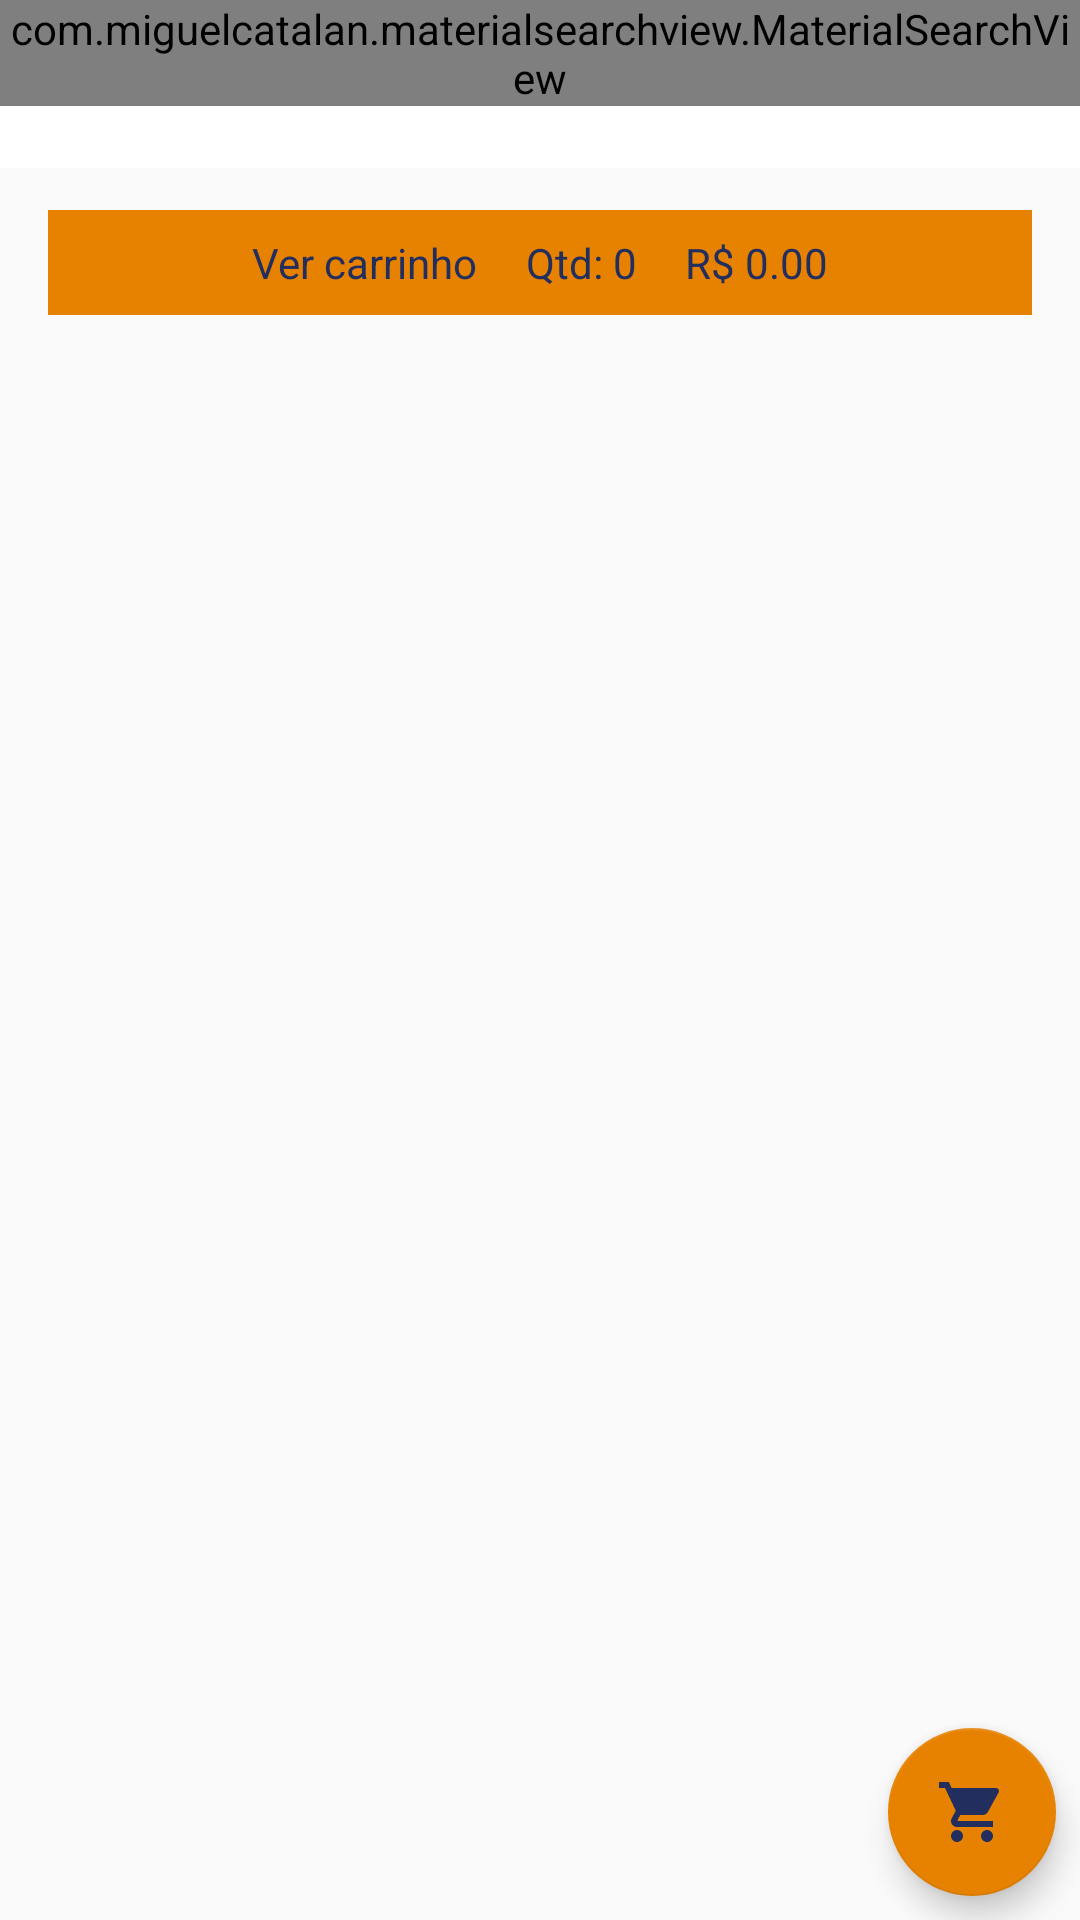

Named icons in this screenshot (1080px×1920px) and their centers, (x,y):
carrinho: (972,1812)
